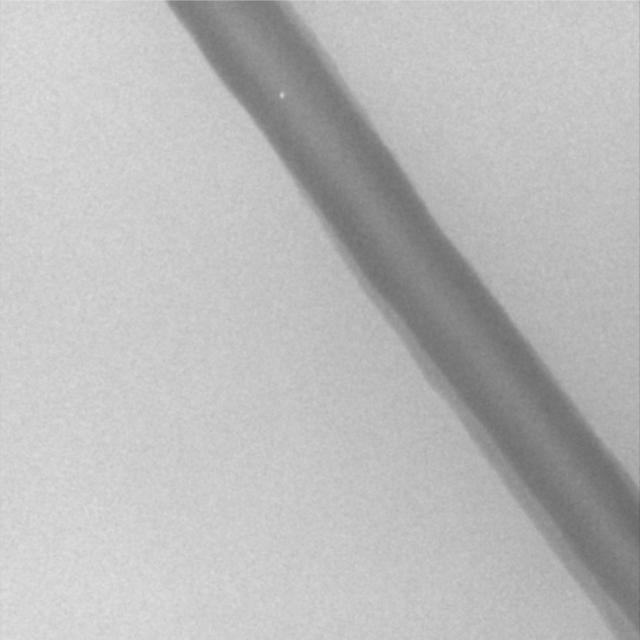air hole: (278, 90, 285, 99)
